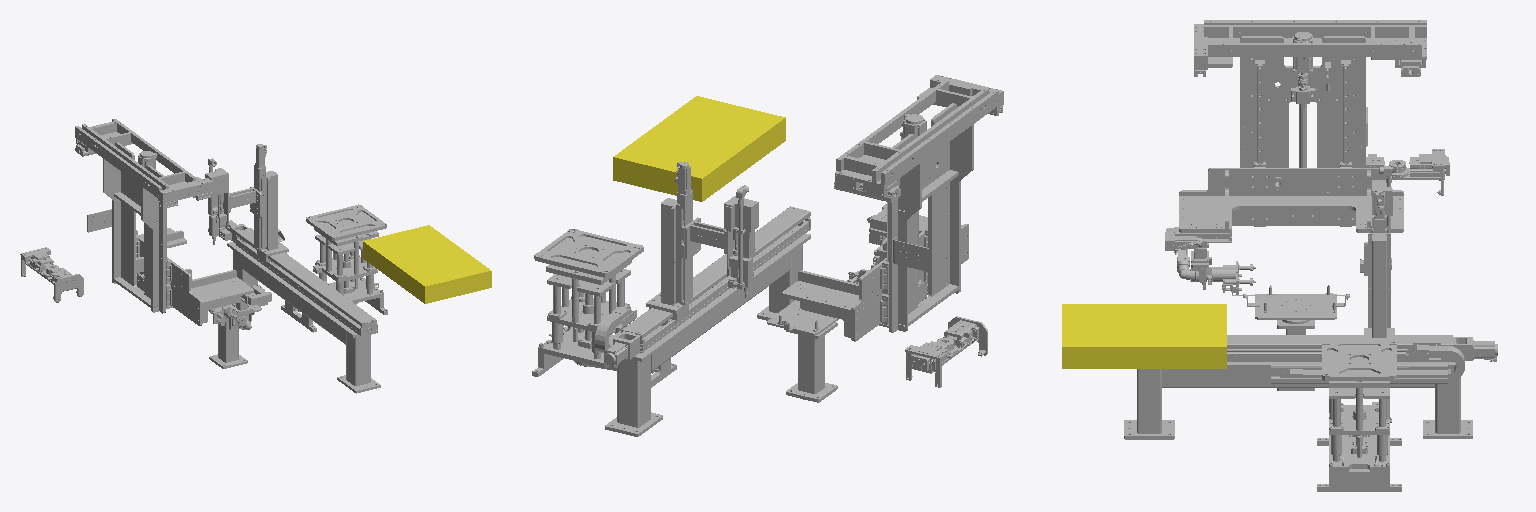
URDF robot description (codenser):
<?xml version="1.0" ?>
<!-- =================================================================================== -->
<!-- |    This document was autogenerated by xacro from src/component_models/machines/codenser/codenser_description/urdf/codenser.urdf.xacro | -->
<!-- |    EDITING THIS FILE BY HAND IS NOT RECOMMENDED                                 | -->
<!-- =================================================================================== -->
<!-- This URDF was automatically created by SolidWorks to URDF Exporter! Originally created by [author] ([email redacted]) 
     Commit Version: 1.6.1-12-ge40d886  Build Version: 1.6.8301.19567
     For more information, please see http://wiki.ros.org/sw_urdf_exporter -->
<robot name="codenser">
  <link name="c_203_robot_arm_base_link">
    <inertial>
      <origin rpy="0 0 0" xyz="-2.7746E-05 1.0377E-05 0.11773"/>
      <mass value="2.901"/>
      <inertia ixx="0.021592" ixy="-1.8468E-06" ixz="-9.8111E-08" iyy="0.021626" iyz="1.2451E-07" izz="0.037904"/>
    </inertial>
    <visual>
      <origin rpy="0 0 0" xyz="0 0 0"/>
      <geometry>
        <mesh filename="package://m_2025642_001_description/meshes/base_link.STL"/>
      </geometry>
      <material name="">
        <color rgba="0.75294 0.75294 0.75294 1"/>
      </material>
    </visual>
    <collision>
      <origin rpy="0 0 0" xyz="0 0 0"/>
      <geometry>
        <mesh filename="package://m_2025642_001_description/meshes/base_link.STL"/>
      </geometry>
    </collision>
  </link>
  <link name="c_203_robot_arm_link_1">
    <inertial>
      <origin rpy="0 0 0" xyz="0.27383 -0.0063157 -0.28956"/>
      <mass value="4.7027"/>
      <inertia ixx="0.25522" ixy="0.013056" ixz="-0.34403" iyy="0.85224" iyz="0.0078809" izz="0.63965"/>
    </inertial>
    <visual>
      <origin rpy="0 0 0" xyz="0 0 0"/>
      <geometry>
        <mesh filename="package://m_2025642_001_description/meshes/link_1.STL"/>
      </geometry>
      <material name="">
        <color rgba="0.75294 0.75294 0.75294 1"/>
      </material>
    </visual>
    <collision>
      <origin rpy="0 0 0" xyz="0 0 0"/>
      <geometry>
        <mesh filename="package://m_2025642_001_description/meshes/link_1.STL"/>
      </geometry>
    </collision>
  </link>
  <joint name="c_203_robot_arm_joint_1" type="revolute">
    <origin rpy="0 0 0" xyz="0 0 0.57269"/>
    <parent link="c_203_robot_arm_base_link"/>
    <child link="c_203_robot_arm_link_1"/>
    <axis xyz="0 0 1"/>
    <limit effort="0.1" lower="-1.0" upper="1.0" velocity="0.1"/>
  </joint>
  <link name="c_203_robot_arm_link_2">
    <inertial>
      <origin rpy="0 0 0" xyz="-0.075618 0.013344 -0.40578"/>
      <mass value="4.7027"/>
      <inertia ixx="0.25522" ixy="0.013056" ixz="-0.34403" iyy="0.85224" iyz="0.0078809" izz="0.63965"/>
    </inertial>
    <visual>
      <origin rpy="0 0 0" xyz="0 0 0"/>
      <geometry>
        <mesh filename="package://m_2025642_001_description/meshes/link_2.STL"/>
      </geometry>
      <material name="">
        <color rgba="0.75294 0.75294 0.75294 1"/>
      </material>
    </visual>
    <collision>
      <origin rpy="0 0 0" xyz="0 0 0"/>
      <geometry>
        <mesh filename="package://m_2025642_001_description/meshes/link_2.STL"/>
      </geometry>
    </collision>
  </link>
  <joint name="c_203_robot_arm_joint_2" type="revolute">
    <origin rpy="0 0 0" xyz="0.34945 -0.019659 0.11622"/>
    <parent link="c_203_robot_arm_link_1"/>
    <child link="c_203_robot_arm_link_2"/>
    <axis xyz="0 0 1"/>
    <limit effort="0.1" lower="-1.0" upper="1.0" velocity="0.1"/>
  </joint>
  <link name="c_203_robot_arm_link_3">
    <inertial>
      <origin rpy="0 0 0" xyz="-0.42562 0.013344 -0.39507"/>
      <mass value="4.7027"/>
      <inertia ixx="0.25522" ixy="0.013056" ixz="-0.34403" iyy="0.85224" iyz="0.0078809" izz="0.63965"/>
    </inertial>
    <visual>
      <origin rpy="0 0 0" xyz="0 0 0"/>
      <geometry>
        <mesh filename="package://m_2025642_001_description/meshes/link_3.STL"/>
      </geometry>
      <material name="">
        <color rgba="0.75294 0.75294 0.75294 1"/>
      </material>
    </visual>
    <collision>
      <origin rpy="0 0 0" xyz="0 0 0"/>
      <geometry>
        <mesh filename="package://m_2025642_001_description/meshes/link_3.STL"/>
      </geometry>
    </collision>
  </link>
  <joint name="c_203_robot_arm_joint_3" type="prismatic">
    <origin rpy="0 0 0" xyz="0.35 0 -0.01071"/>
    <parent link="c_203_robot_arm_link_2"/>
    <child link="c_203_robot_arm_link_3"/>
    <axis xyz="0 0 1"/>
    <limit effort="0.1" lower="-0.1" upper="0.05" velocity="0.1"/>
  </joint>
  <link name="c_203_robot_arm_link_4">
    <inertial>
      <origin rpy="0 0 0" xyz="0.018596 0.0019918 0.018216"/>
      <mass value="1.0033"/>
      <inertia ixx="0.00065498" ixy="2.4675E-06" ixz="-1.1852E-05" iyy="0.0040429" iyz="4.0062E-06" izz="0.0045133"/>
    </inertial>
    <visual>
      <origin rpy="0 0 0" xyz="0 0 0"/>
      <geometry>
        <mesh filename="package://m_2025642_001_description/meshes/link_4.STL"/>
      </geometry>
      <material name="">
        <color rgba="0.75294 0.75294 0.75294 1"/>
      </material>
    </visual>
    <collision>
      <origin rpy="0 0 0" xyz="0 0 0"/>
      <geometry>
        <mesh filename="package://m_2025642_001_description/meshes/link_4.STL"/>
      </geometry>
    </collision>
  </link>
  <joint name="c_203_robot_arm_joint_4" type="revolute">
    <origin rpy="0 0 0" xyz="0 0.0020727 -0.155"/>
    <parent link="c_203_robot_arm_link_3"/>
    <child link="c_203_robot_arm_link_4"/>
    <axis xyz="0 0 1"/>
    <limit effort="0.1" lower="-0.2" upper="0.2" velocity="0.1"/>
  </joint>
  <link name="c_203_robot_arm_gripper_right_link">
    <inertial>
      <origin rpy="0 0 0" xyz="-0.042744 0.0023468 0.042891"/>
      <mass value="0.43089"/>
      <inertia ixx="0.00044467" ixy="-5.9136E-06" ixz="5.7977E-05" iyy="0.00073715" iyz="-1.5119E-06" izz="0.00087355"/>
    </inertial>
    <visual>
      <origin rpy="0 0 0" xyz="0 0 0"/>
      <geometry>
        <mesh filename="package://m_2025642_001_description/meshes/gripper_right_link.STL"/>
      </geometry>
      <material name="">
        <color rgba="0.75294 0.75294 0.75294 1"/>
      </material>
    </visual>
    <collision>
      <origin rpy="0 0 0" xyz="0 0 0"/>
      <geometry>
        <mesh filename="package://m_2025642_001_description/meshes/gripper_right_link.STL"/>
      </geometry>
    </collision>
  </link>
  <joint name="c_203_robot_arm_gripper_right_joint" type="prismatic">
    <origin rpy="0 0 0" xyz="0.19 -0.0020727 0.0014243"/>
    <parent link="c_203_robot_arm_link_4"/>
    <child link="c_203_robot_arm_gripper_right_link"/>
    <axis xyz="1 0 0"/>
    <limit effort="0.1" lower="0" upper="0.1" velocity="0.1"/>
  </joint>
  <link name="c_203_robot_arm_gripper_left_link">
    <inertial>
      <origin rpy="0 0 0" xyz="0.007756 0.0016325 0.025599"/>
      <mass value="0.36755"/>
      <inertia ixx="0.00075935" ixy="1.125E-08" ixz="-2.7795E-05" iyy="0.00045486" iyz="5.4225E-08" izz="0.00079529"/>
    </inertial>
    <visual>
      <origin rpy="0 0 0" xyz="0 0 0"/>
      <geometry>
        <mesh filename="package://m_2025642_001_description/meshes/gripper_left_link.STL"/>
      </geometry>
      <material name="">
        <color rgba="0.75294 0.75294 0.75294 1"/>
      </material>
    </visual>
    <collision>
      <origin rpy="0 0 0" xyz="0 0 0"/>
      <geometry>
        <mesh filename="package://m_2025642_001_description/meshes/gripper_left_link.STL"/>
      </geometry>
    </collision>
  </link>
  <joint name="c_203_robot_arm_gripper_left_joint" type="prismatic">
    <origin rpy="0 0 0" xyz="-0.156 -0.0020727 0.0014243"/>
    <parent link="c_203_robot_arm_link_4"/>
    <child link="c_203_robot_arm_gripper_left_link"/>
    <axis xyz="-1 0 0"/>
    <limit effort="0.1" lower="0" upper="0.06" velocity="0.1"/>
  </joint>
  <link name="c_204_pick_place_system_base_link">
    <inertial>
      <origin rpy="0 0 0" xyz="0.58983 0.63355 0.96408"/>
      <mass value="56.671"/>
      <inertia ixx="5.0862" ixy="0.096549" ixz="0.011489" iyy="11.551" iyz="0.00029138" izz="15.131"/>
    </inertial>
    <visual>
      <origin rpy="0 0 0" xyz="0 0 0"/>
      <geometry>
        <mesh filename="package://m_2025643_001_description/meshes/base_link.STL"/>
      </geometry>
      <material name="">
        <color rgba="0.75294 0.75294 0.75294 1"/>
      </material>
    </visual>
    <collision>
      <origin rpy="0 0 0" xyz="0 0 0"/>
      <geometry>
        <mesh filename="package://m_2025643_001_description/meshes/base_link.STL"/>
      </geometry>
    </collision>
  </link>
  <link name="c_204_pick_place_system_link_1">
    <inertial>
      <origin rpy="0 0 0" xyz="0.11461 -0.023751 -0.20534"/>
      <mass value="17.887"/>
      <inertia ixx="0.85265" ixy="0.0020243" ixz="0.0034461" iyy="0.42068" iyz="-0.00010302" izz="0.47399"/>
    </inertial>
    <visual>
      <origin rpy="0 0 0" xyz="0 0 0"/>
      <geometry>
        <mesh filename="package://m_2025643_001_description/meshes/link_1.STL"/>
      </geometry>
      <material name="">
        <color rgba="0.75294 0.75294 0.75294 1"/>
      </material>
    </visual>
    <collision>
      <origin rpy="0 0 0" xyz="0 0 0"/>
      <geometry>
        <mesh filename="package://m_2025643_001_description/meshes/link_1.STL"/>
      </geometry>
    </collision>
  </link>
  <joint name="c_204_pick_place_system_joint_1" type="prismatic">
    <origin rpy="0 0 0" xyz="-0.37671 0.676 1.2315"/>
    <parent link="c_204_pick_place_system_base_link"/>
    <child link="c_204_pick_place_system_link_1"/>
    <axis xyz="1 0 0"/>
    <limit effort="0.1" lower="0" upper="1.5" velocity="0.1"/>
  </joint>
  <link name="c_204_pick_place_system_link_2">
    <inertial>
      <origin rpy="0 0 0" xyz="0.070659 -0.031425 0.0021627"/>
      <mass value="8.1181"/>
      <inertia ixx="0.43894" ixy="0.0013519" ixz="0.00017093" iyy="0.045982" iyz="-0.0024625" izz="0.45094"/>
    </inertial>
    <visual>
      <origin rpy="0 0 0" xyz="0 0 0"/>
      <geometry>
        <mesh filename="package://m_2025643_001_description/meshes/link_2.STL"/>
      </geometry>
      <material name="">
        <color rgba="0.75294 0.75294 0.75294 1"/>
      </material>
    </visual>
    <collision>
      <origin rpy="0 0 0" xyz="0 0 0"/>
      <geometry>
        <mesh filename="package://m_2025643_001_description/meshes/link_2.STL"/>
      </geometry>
    </collision>
  </link>
  <joint name="c_204_pick_place_system_joint_2" type="prismatic">
    <origin rpy="0 0 0" xyz="0.20285 -0.084066 -0.62709"/>
    <parent link="c_204_pick_place_system_link_1"/>
    <child link="c_204_pick_place_system_link_2"/>
    <axis xyz="0 0 1"/>
    <limit effort="0.1" lower="0" upper="0.5" velocity="0.1"/>
  </joint>
  <link name="c_204_pick_place_system_gripper_left_link">
    <inertial>
      <origin rpy="0 0 0" xyz="-0.016946 -0.019226 -0.088431"/>
      <mass value="1.0465"/>
      <inertia ixx="0.0009527" ixy="-0.00010594" ixz="0.00013512" iyy="0.0010535" iyz="0.00011099" izz="0.001289"/>
    </inertial>
    <visual>
      <origin rpy="0 0 0" xyz="0 0 0"/>
      <geometry>
        <mesh filename="package://m_2025643_001_description/meshes/gripper_left_link.STL"/>
      </geometry>
      <material name="">
        <color rgba="0.75294 0.75294 0.75294 1"/>
      </material>
    </visual>
    <collision>
      <origin rpy="0 0 0" xyz="0 0 0"/>
      <geometry>
        <mesh filename="package://m_2025643_001_description/meshes/gripper_left_link.STL"/>
      </geometry>
    </collision>
  </link>
  <joint name="c_204_pick_place_system_gripper_left_joint" type="prismatic">
    <origin rpy="0 0 0" xyz="0.286 -0.37124 -0.046329"/>
    <parent link="c_204_pick_place_system_link_2"/>
    <child link="c_204_pick_place_system_gripper_left_link"/>
    <axis xyz="0 1 0"/>
    <limit effort="0.1" lower="0" upper="0.1" velocity="0.1"/>
  </joint>
  <link name="c_204_pick_place_system_finger_left_link">
    <inertial>
      <origin rpy="0 0 0" xyz="0.0044985 0.062888 -0.006434"/>
      <mass value="0.38585"/>
      <inertia ixx="0.00020691" ixy="2.0797E-07" ixz="-4.5948E-07" iyy="0.00034559" iyz="-3.5191E-07" izz="0.00038383"/>
    </inertial>
    <visual>
      <origin rpy="0 0 0" xyz="0 0 0"/>
      <geometry>
        <mesh filename="package://m_2025643_001_description/meshes/finger_left_link.STL"/>
      </geometry>
      <material name="">
        <color rgba="0.75294 0.75294 0.75294 1"/>
      </material>
    </visual>
    <collision>
      <origin rpy="0 0 0" xyz="0 0 0"/>
      <geometry>
        <mesh filename="package://m_2025643_001_description/meshes/finger_left_link.STL"/>
      </geometry>
    </collision>
  </link>
  <joint name="c_204_pick_place_system_finger_left_joint" type="revolute">
    <origin rpy="0 0 0" xyz="0 0.047 -0.148"/>
    <parent link="c_204_pick_place_system_gripper_left_link"/>
    <child link="c_204_pick_place_system_finger_left_link"/>
    <axis xyz="0 1 0"/>
    <limit effort="0.1" lower="-0.5" upper="0.5" velocity="0.1"/>
  </joint>
  <link name="c_208_workpiece_lifter_base_link">
    <inertial>
      <origin rpy="0 0 0" xyz="0.23397 0.00029888 0.15629"/>
      <mass value="5.7833"/>
      <inertia ixx="0.029824" ixy="0.0001163" ixz="-2.0315E-05" iyy="0.044642" iyz="3.2398E-05" izz="0.057924"/>
    </inertial>
    <visual>
      <origin rpy="0 0 0" xyz="0 0 0"/>
      <geometry>
        <mesh filename="package://m_2063306_000_description/meshes/base_link.STL"/>
      </geometry>
      <material name="">
        <color rgba="0.75294 0.75294 0.75294 1"/>
      </material>
    </visual>
    <collision>
      <origin rpy="0 0 0" xyz="0 0 0"/>
      <geometry>
        <mesh filename="package://m_2063306_000_description/meshes/base_link.STL"/>
      </geometry>
    </collision>
  </link>
  <link name="c_208_workpiece_lifter_link_1">
    <inertial>
      <origin rpy="0 0 0" xyz="-0.0010188 0.00075539 0.25483"/>
      <mass value="4.9135"/>
      <inertia ixx="0.023378" ixy="-0.00023389" ixz="5.6233E-06" iyy="0.026512" iyz="-1.1668E-05" izz="0.044967"/>
    </inertial>
    <visual>
      <origin rpy="0 0 0" xyz="0 0 0"/>
      <geometry>
        <mesh filename="package://m_2063306_000_description/meshes/link_1.STL"/>
      </geometry>
      <material name="">
        <color rgba="0.75294 0.75294 0.75294 1"/>
      </material>
    </visual>
    <collision>
      <origin rpy="0 0 0" xyz="0 0 0"/>
      <geometry>
        <mesh filename="package://m_2063306_000_description/meshes/link_1.STL"/>
      </geometry>
    </collision>
  </link>
  <joint name="c_208_workpiece_lifter_joint_1" type="prismatic">
    <origin rpy="0 0 0" xyz="0.2845 0 0.127"/>
    <parent link="c_208_workpiece_lifter_base_link"/>
    <child link="c_208_workpiece_lifter_link_1"/>
    <axis xyz="0 0 1"/>
    <limit effort="0.1" lower="0" upper="0.1" velocity="0.1"/>
  </joint>
  <link name="c_205_workpiece_holder_base_link">
    <inertial>
      <origin rpy="0 0 0" xyz="-0.00033345 0.00023906 0.25293"/>
      <mass value="2.0735"/>
      <inertia ixx="0.0091049" ixy="-7.0561E-07" ixz="-1.5489E-07" iyy="0.0061399" iyz="4.7348E-08" izz="0.012288"/>
    </inertial>
    <visual>
      <origin rpy="0 0 0" xyz="0 0 0"/>
      <geometry>
        <mesh filename="package://m_2154940_001_description/meshes/base_link.STL"/>
      </geometry>
      <material name="">
        <color rgba="0.75294 0.75294 0.75294 1"/>
      </material>
    </visual>
    <collision>
      <origin rpy="0 0 0" xyz="0 0 0"/>
      <geometry>
        <mesh filename="package://m_2154940_001_description/meshes/base_link.STL"/>
      </geometry>
    </collision>
  </link>
  <link name="c_206_height_check_system_base_link">
    <inertial>
      <origin rpy="0 0 0" xyz="-0.0079588 0.53745 0.29257"/>
      <mass value="25.945"/>
      <inertia ixx="3.1047" ixy="7.4183E-05" ixz="-0.00021729" iyy="0.061286" iyz="0.0088416" izz="3.1103"/>
    </inertial>
    <visual>
      <origin rpy="0 0 0" xyz="0 0 0"/>
      <geometry>
        <mesh filename="package://m_4730788_001_description/meshes/base_link.STL"/>
      </geometry>
      <material name="">
        <color rgba="0.75294 0.75294 0.75294 1"/>
      </material>
    </visual>
    <collision>
      <origin rpy="0 0 0" xyz="0 0 0"/>
      <geometry>
        <mesh filename="package://m_4730788_001_description/meshes/base_link.STL"/>
      </geometry>
    </collision>
  </link>
  <link name="c_206_height_check_system_link_1">
    <inertial>
      <origin rpy="0 0 0" xyz="0.035968 0.27493 0.22182"/>
      <mass value="5.6095"/>
      <inertia ixx="0.069776" ixy="-4.5144E-06" ixz="-0.00039418" iyy="0.068863" iyz="-3.9361E-06" izz="0.0062752"/>
    </inertial>
    <visual>
      <origin rpy="0 0 0" xyz="0 0 0"/>
      <geometry>
        <mesh filename="package://m_4730788_001_description/meshes/link_1.STL"/>
      </geometry>
      <material name="">
        <color rgba="0.75294 0.75294 0.75294 1"/>
      </material>
    </visual>
    <collision>
      <origin rpy="0 0 0" xyz="0 0 0"/>
      <geometry>
        <mesh filename="package://m_4730788_001_description/meshes/link_1.STL"/>
      </geometry>
    </collision>
  </link>
  <joint name="c_206_height_check_system_joint_1" type="prismatic">
    <origin rpy="0 0 0" xyz="0 -0.0041461 0.37535"/>
    <parent link="c_206_height_check_system_base_link"/>
    <child link="c_206_height_check_system_link_1"/>
    <axis xyz="0 1 0"/>
    <limit effort="0.1" lower="0" upper="1.0" velocity="0.1"/>
  </joint>
  <link name="c_206_height_check_system_link_2">
    <inertial>
      <origin rpy="0 0 0" xyz="0.1819 1.4438E-05 -0.12956"/>
      <mass value="1.8798"/>
      <inertia ixx="0.0025187" ixy="-1.2207E-05" ixz="8.5334E-07" iyy="0.0027656" iyz="1.0645E-07" izz="0.0012183"/>
    </inertial>
    <visual>
      <origin rpy="0 0 0" xyz="0 0 0"/>
      <geometry>
        <mesh filename="package://m_4730788_001_description/meshes/link_2.STL"/>
      </geometry>
      <material name="">
        <color rgba="0.75294 0.75294 0.75294 1"/>
      </material>
    </visual>
    <collision>
      <origin rpy="0 0 0" xyz="0 0 0"/>
      <geometry>
        <mesh filename="package://m_4730788_001_description/meshes/link_2.STL"/>
      </geometry>
    </collision>
  </link>
  <joint name="c_206_height_check_system_joint_2" type="prismatic">
    <origin rpy="0 0 0" xyz="0.074922 0.27494 0.46365"/>
    <parent link="c_206_height_check_system_link_1"/>
    <child link="c_206_height_check_system_link_2"/>
    <axis xyz="0 0 1"/>
    <limit effort="0.1" lower="-0.2" upper="0.25" velocity="0.1"/>
  </joint>
  <link name="c_207_workpiece_feeder_base_link">
    <inertial>
      <origin rpy="0 0 0" xyz="-0.14164 -0.59781 -0.44321"/>
      <mass value="21.523"/>
      <inertia ixx="0.088184" ixy="3.5897E-05" ixz="-1.1803E-05" iyy="2.7101" iyz="-0.0006684" izz="2.6633"/>
    </inertial>
    <visual>
      <origin rpy="0 0 0" xyz="0 0 0"/>
      <geometry>
        <mesh filename="package://m_5326927_001_description/meshes/base_link.STL"/>
      </geometry>
      <material name="">
        <color rgba="0.8549 0.74118 0.91765 1"/>
      </material>
    </visual>
    <collision>
      <origin rpy="0 0 0" xyz="0 0 0"/>
      <geometry>
        <mesh filename="package://m_5326927_001_description/meshes/base_link.STL"/>
      </geometry>
    </collision>
  </link>
  <link name="c_207_workpiece_feeder_zone_link">
    <visual>
      <origin rpy="0 0 0" xyz="0 0 0"/>
      <geometry>
        <box size="0.4 0.65 0.1"/>
      </geometry>
    </visual>
    <collision>
      <origin rpy="0 0 0" xyz="0 0 0"/>
      <geometry>
        <box size="0.4 0.65 0.1"/>
      </geometry>
    </collision>
  </link>
  <joint name="c_207_workpiece_feeder_joint_1" type="prismatic">
    <origin rpy="0 0 0" xyz="0 0 0.6"/>
    <parent link="c_207_workpiece_feeder_base_link"/>
    <child link="c_207_workpiece_feeder_zone_link"/>
    <axis xyz="0 1 0"/>
    <limit effort="0.1" lower="0" upper="1.5" velocity="0.1"/>
  </joint>
  <link name="world"/>
  <joint name="c_203_robot_arm_joint" type="fixed">
    <origin rpy="0 0 1.571" xyz="-0.6 0.3 0"/>
    <parent link="world"/>
    <child link="c_203_robot_arm_base_link"/>
  </joint>
  <joint name="c_204_pick_place_system_joint" type="fixed">
    <origin rpy="0 0 0" xyz="0 0 0"/>
    <parent link="world"/>
    <child link="c_204_pick_place_system_base_link"/>
  </joint>
  <joint name="c_205_workpiece_holder_joint" type="fixed">
    <origin rpy="0 0 0" xyz="0.25 0.6 0"/>
    <parent link="world"/>
    <child link="c_205_workpiece_holder_base_link"/>
  </joint>
  <joint name="c_206_height_check_system_joint" type="fixed">
    <origin rpy="0 0 3.142" xyz="0.7 1.2 0"/>
    <parent link="world"/>
    <child link="c_206_height_check_system_base_link"/>
  </joint>
  <joint name="c_207_workpiece_feeder_joint" type="fixed">
    <origin rpy="0 0 0" xyz="1.1 0 0"/>
    <parent link="world"/>
    <child link="c_207_workpiece_feeder_base_link"/>
  </joint>
  <joint name="c_208_workpiece_lifter_joint" type="fixed">
    <origin rpy="0 0 0" xyz="-0.28 0.85 0"/>
    <parent link="c_207_workpiece_feeder_base_link"/>
    <child link="c_208_workpiece_lifter_base_link"/>
  </joint>
</robot>

--- Facts derived from the render (not from the file) ---
Views: 3 orthographic renders of the robot side by side, from view 1: azimuth 30°, elevation 25°; view 2: azimuth 150°, elevation 25°; view 3: azimuth 270°, elevation 25°.
Model codenser with 21 links and 20 joints (4 revolute, 10 prismatic, 6 fixed), rooted at world, posed all joints at 0.
Visible links, largest first — view 1: c_204_pick_place_system_link_1, c_206_height_check_system_base_link, c_207_workpiece_feeder_zone_link, c_204_pick_place_system_link_2, c_208_workpiece_lifter_link_1, c_206_height_check_system_link_1, c_206_height_check_system_link_2, c_208_workpiece_lifter_base_link, c_205_workpiece_holder_base_link, c_203_robot_arm_gripper_left_link, c_204_pick_place_system_gripper_left_link; view 2: c_204_pick_place_system_link_1, c_206_height_check_system_base_link, c_207_workpiece_feeder_zone_link, c_204_pick_place_system_link_2, c_208_workpiece_lifter_link_1, c_206_height_check_system_link_2, c_206_height_check_system_link_1, c_208_workpiece_lifter_base_link, c_205_workpiece_holder_base_link, c_203_robot_arm_gripper_right_link, c_203_robot_arm_gripper_left_link, c_203_robot_arm_link_4; view 3: c_204_pick_place_system_link_1, c_206_height_check_system_base_link, c_204_pick_place_system_link_2, c_207_workpiece_feeder_zone_link, c_208_workpiece_lifter_link_1, c_208_workpiece_lifter_base_link, c_206_height_check_system_link_1, c_205_workpiece_holder_base_link, c_204_pick_place_system_gripper_left_link, c_206_height_check_system_link_2, c_204_pick_place_system_finger_left_link, c_203_robot_arm_gripper_right_link (+1 smaller).
Link boxes in pixels (left/top/right/bottom): c_204_pick_place_system_link_1: left=75, top=119, right=212, bottom=313; c_206_height_check_system_base_link: left=227, top=220, right=380, bottom=393; c_207_workpiece_feeder_zone_link: left=363, top=225, right=491, bottom=303; c_204_pick_place_system_link_2: left=136, top=228, right=271, bottom=325; c_208_workpiece_lifter_link_1: left=306, top=204, right=386, bottom=295; c_206_height_check_system_link_1: left=254, top=144, right=288, bottom=265; c_206_height_check_system_link_2: left=205, top=158, right=262, bottom=244; c_208_workpiece_lifter_base_link: left=281, top=234, right=387, bottom=332; c_205_workpiece_holder_base_link: left=209, top=304, right=261, bottom=368; c_203_robot_arm_gripper_left_link: left=51, top=268, right=83, bottom=302; c_204_pick_place_system_gripper_left_link: left=225, top=297, right=254, bottom=330; c_204_pick_place_system_link_1: left=834, top=75, right=1003, bottom=332; c_206_height_check_system_base_link: left=594, top=206, right=810, bottom=436; c_207_workpiece_feeder_zone_link: left=613, top=96, right=785, bottom=201; c_204_pick_place_system_link_2: left=782, top=204, right=968, bottom=341; c_208_workpiece_lifter_link_1: left=534, top=229, right=643, bottom=353; c_206_height_check_system_link_2: left=681, top=185, right=758, bottom=299; c_206_height_check_system_link_1: left=646, top=162, right=692, bottom=325; c_208_workpiece_lifter_base_link: left=532, top=269, right=676, bottom=387; c_205_workpiece_holder_base_link: left=767, top=300, right=838, bottom=402; c_203_robot_arm_gripper_right_link: left=905, top=341, right=947, bottom=387; c_203_robot_arm_gripper_left_link: left=944, top=316, right=987, bottom=356; c_203_robot_arm_link_4: left=911, top=326, right=978, bottom=373; c_204_pick_place_system_link_1: left=1194, top=20, right=1426, bottom=181; c_206_height_check_system_base_link: left=1124, top=335, right=1497, bottom=439; c_204_pick_place_system_link_2: left=1165, top=162, right=1403, bottom=250; c_207_workpiece_feeder_zone_link: left=1062, top=304, right=1226, bottom=368; c_208_workpiece_lifter_link_1: left=1322, top=341, right=1396, bottom=455; c_208_workpiece_lifter_base_link: left=1317, top=388, right=1401, bottom=491; c_206_height_check_system_link_1: left=1364, top=188, right=1394, bottom=340; c_205_workpiece_holder_base_link: left=1232, top=285, right=1349, bottom=390; c_204_pick_place_system_gripper_left_link: left=1174, top=239, right=1211, bottom=289; c_206_height_check_system_link_2: left=1360, top=166, right=1392, bottom=275; c_204_pick_place_system_finger_left_link: left=1208, top=261, right=1255, bottom=294; c_203_robot_arm_gripper_right_link: left=1410, top=149, right=1449, bottom=195.
Size in the robot's own frame: 1.97 by 1.72 by 1.3 metres.
13 mesh visuals loaded from 19 distinct referenced files (13 binary STL); not drawn: 6 (reference not matched to a file when rendering).
